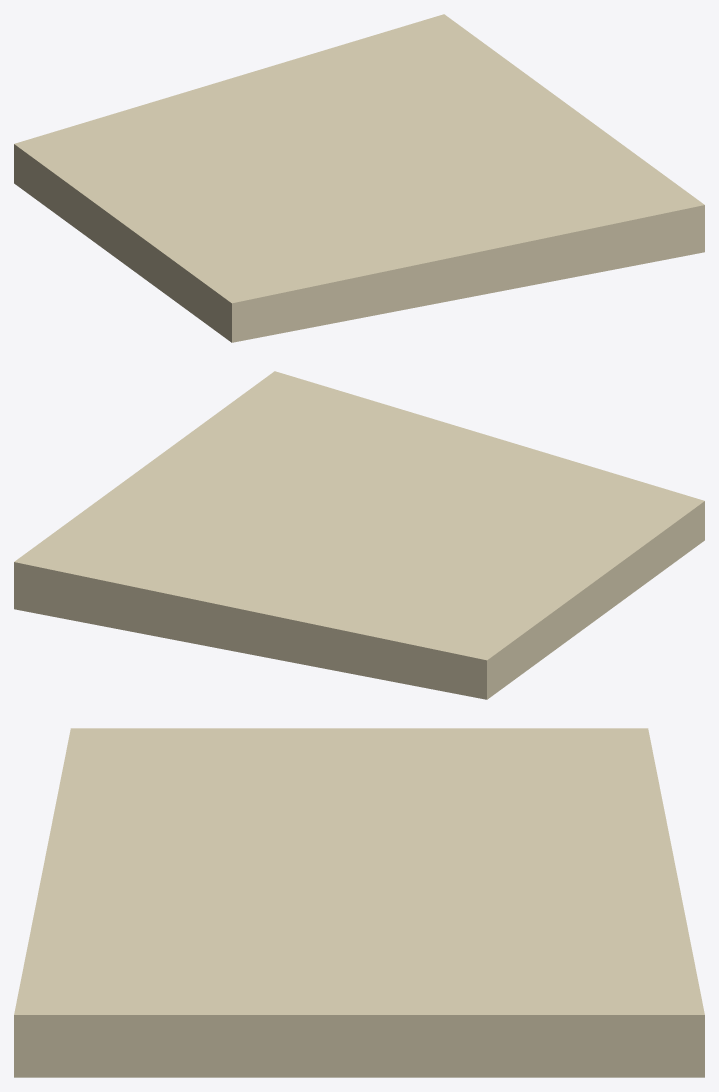
File: Destroy_Plate_1.fbx
3 renders of one model, top to bottom at view 1: azimuth 30°, elevation 25°; view 2: azimuth 150°, elevation 25°; view 3: azimuth 270°, elevation 25°, orthographic. The views are drawn at different scales.
Parts seen in each view (by area): view 1: Destroy_Plate_1; view 2: Destroy_Plate_1; view 3: Destroy_Plate_1.
Part boxes in pixels (x1,y1,x2,y2): Destroy_Plate_1: (14, 14, 704, 342); Destroy_Plate_1: (14, 371, 704, 699); Destroy_Plate_1: (14, 728, 704, 1077).
Size of the model in its own units: 300 by 30 by 300.
